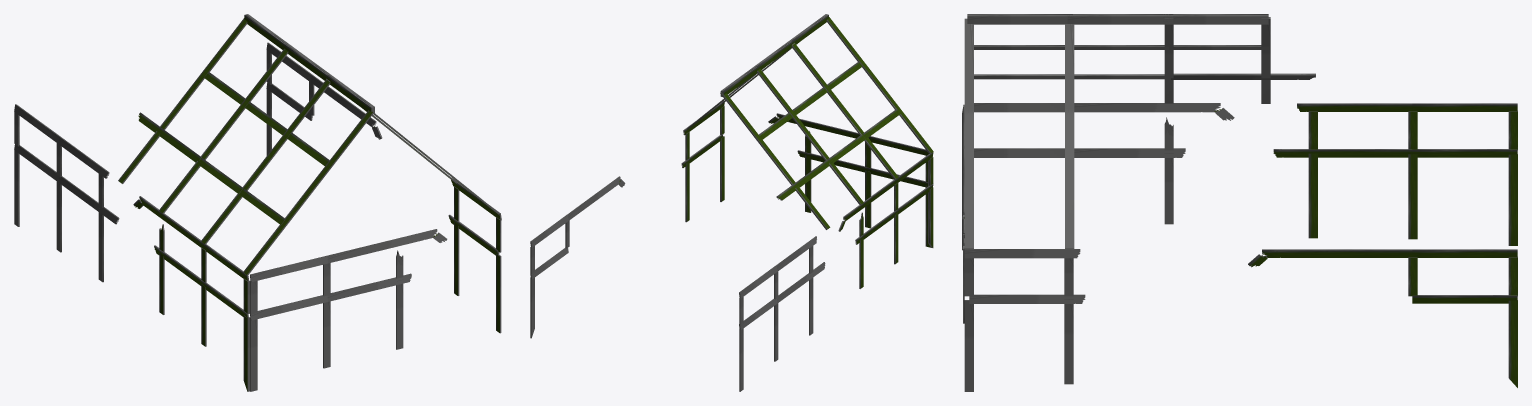
Rendered from Model_Broken_House.fbx.
3 renders of one model, left to right at view 1: azimuth 30°, elevation 25°; view 2: azimuth 150°, elevation 25°; view 3: azimuth 270°, elevation 25°, orthographic. The views are drawn at different scales.
Visible parts, largest first — view 1: 立方体; view 2: 立方体; view 3: 立方体.
Boxes of the visible parts, x1=… form: 立方体: x1=14, y1=14, x2=501, y2=391; 立方体: x1=530, y1=14, x2=933, y2=391; 立方体: x1=962, y1=14, x2=1517, y2=391.
Bounding box in the file's own units: 890 × 853 × 1416.
